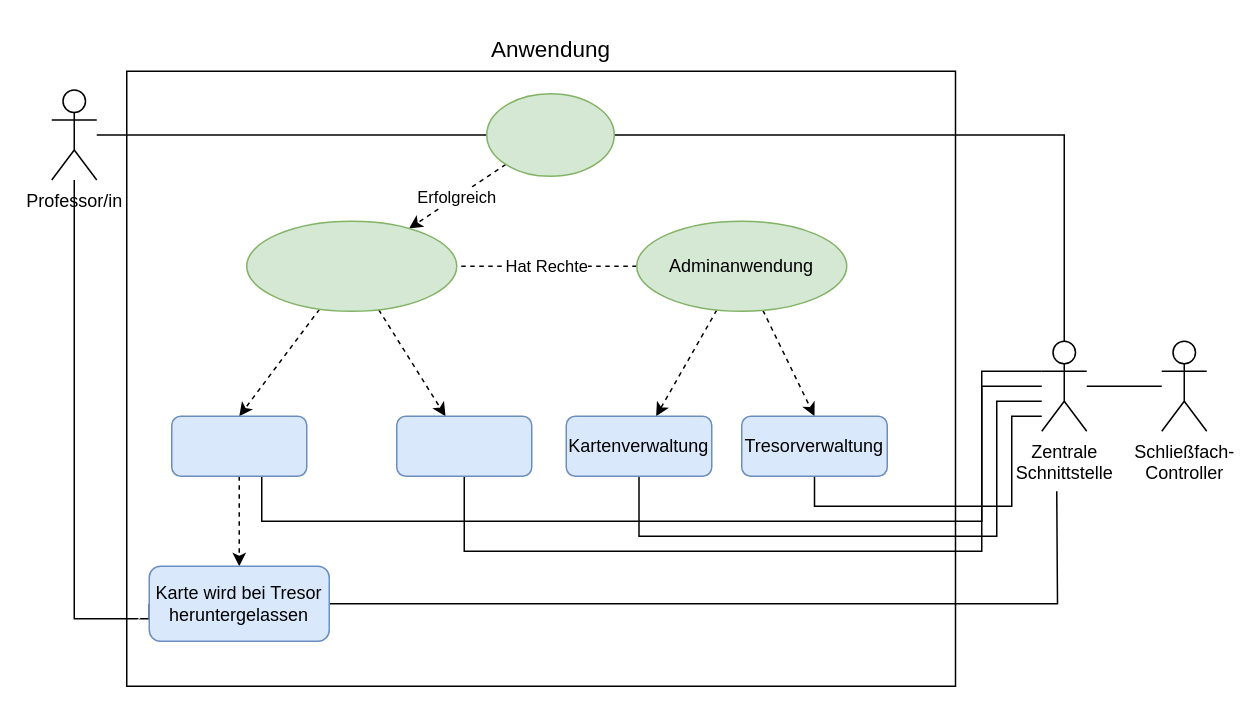
This 1260x713 diagram has some shape labels left out. The centre of each missing label's shape, as x and y in pixels:
Anforderung einer Karte: [238,445]
Benutzeranwendung: [351,265]
Registrierung: [549,134]
Reservierung einer Karte: [463,445]
